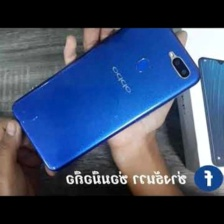book: (167, 17, 223, 181)
phone: (8, 16, 202, 176)
